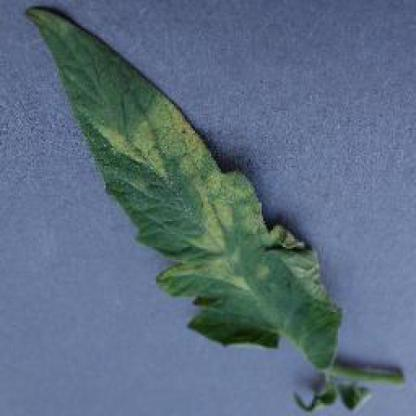Tomato_Leaf_Mold: (21, 8, 338, 368)
